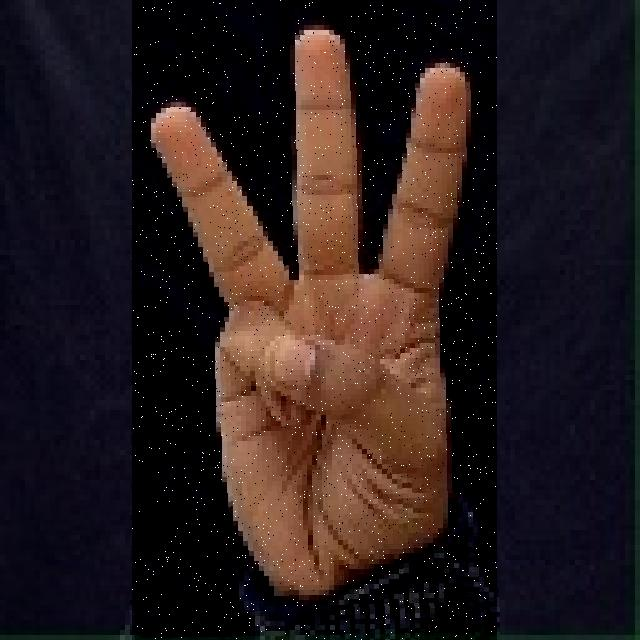Please: (132, 0, 497, 640)
